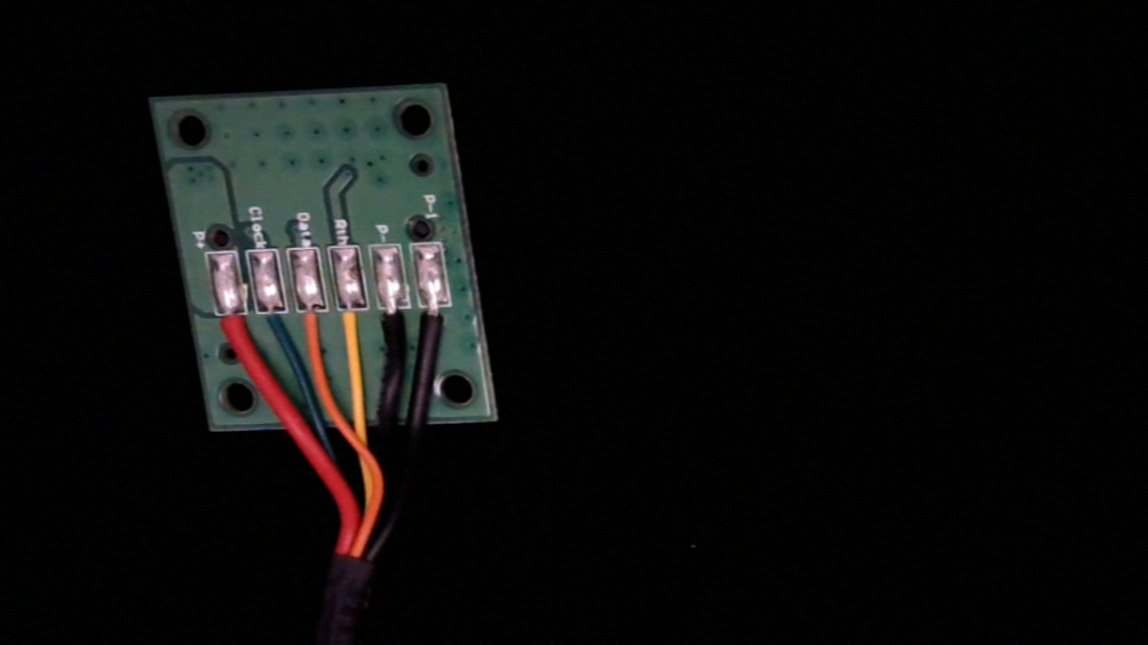Black: (374, 286, 418, 359)
Black1: (416, 287, 458, 354)
Green: (252, 293, 296, 363)
Orange: (293, 289, 335, 361)
Red: (211, 296, 255, 366)
Yellow: (330, 289, 374, 363)
